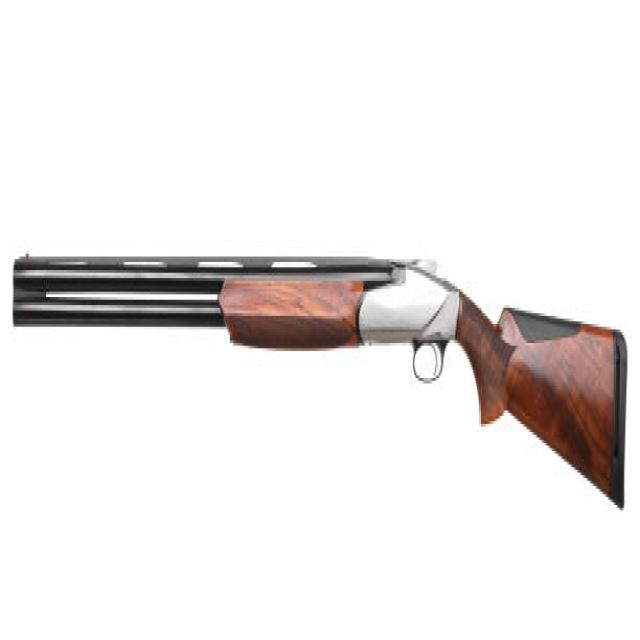rifle: (8, 228, 634, 526)
